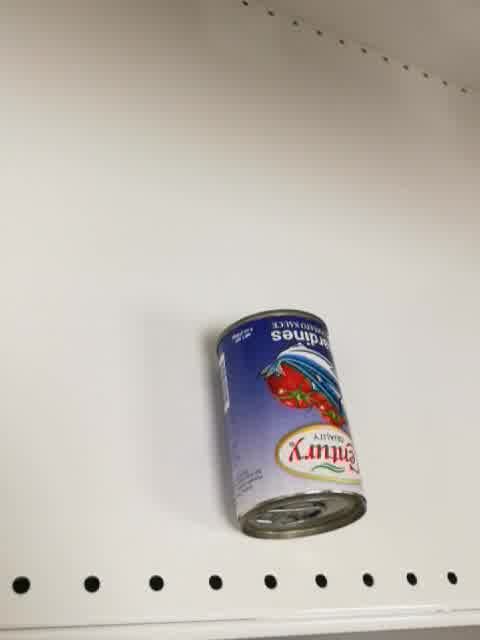sardine: (215, 308, 367, 540)
